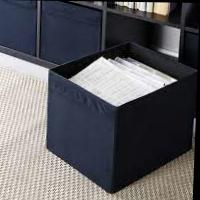cube: (44, 41, 197, 191)
